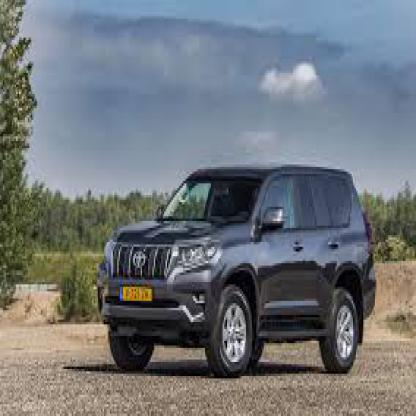jeep: (98, 162, 378, 393)
